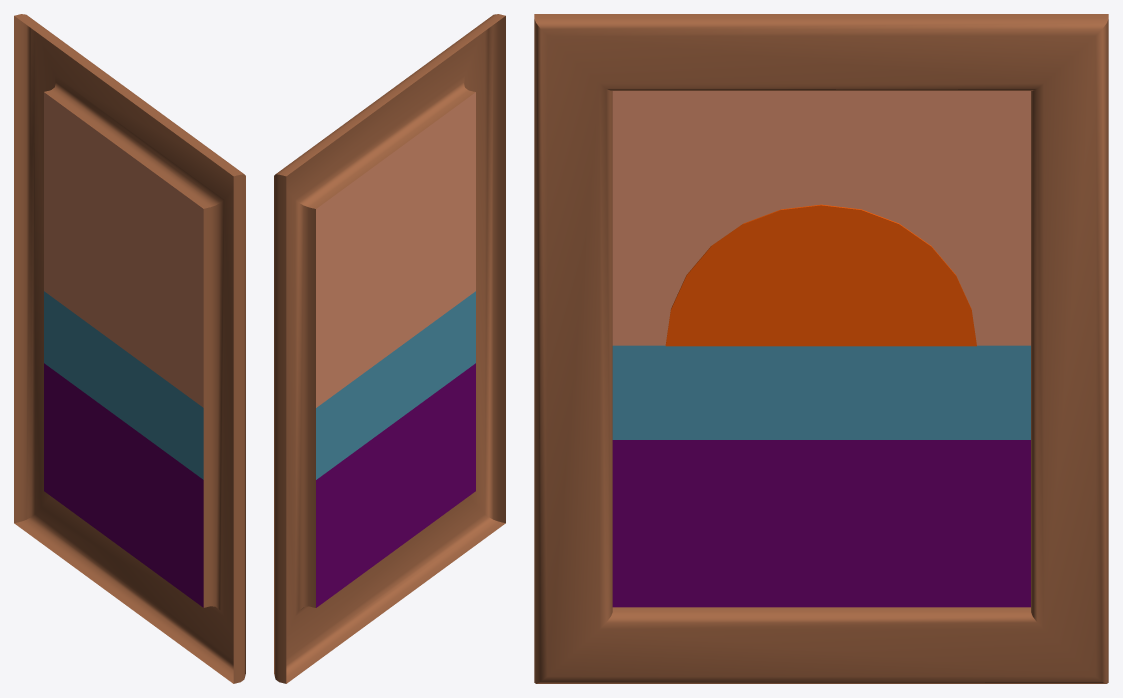
Rendered from 02_Draw 2.fbx.
The picture shows the model from 3 angles, left to right: view 1: azimuth 30°, elevation 25°; view 2: azimuth 150°, elevation 25°; view 3: azimuth 270°, elevation 25°; orthographic projection. The views are drawn at different scales.
Parts seen in each view (by area): view 1: Cube.096; view 2: Cube.096; view 3: Cube.096, Circle.041.
Boxes of the visible parts, bbox=[...] form: Cube.096: bbox=[14, 14, 245, 683]; Cube.096: bbox=[274, 14, 505, 683]; Cube.096: bbox=[534, 14, 1108, 683]; Circle.041: bbox=[665, 204, 976, 346].
Size of the model in its own units: 0.9187 by 28 by 21.94.
